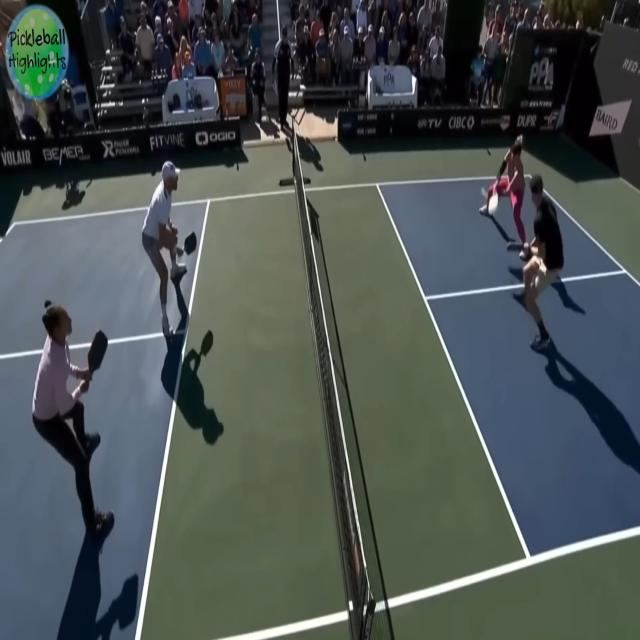ball: (480, 182, 490, 201)
